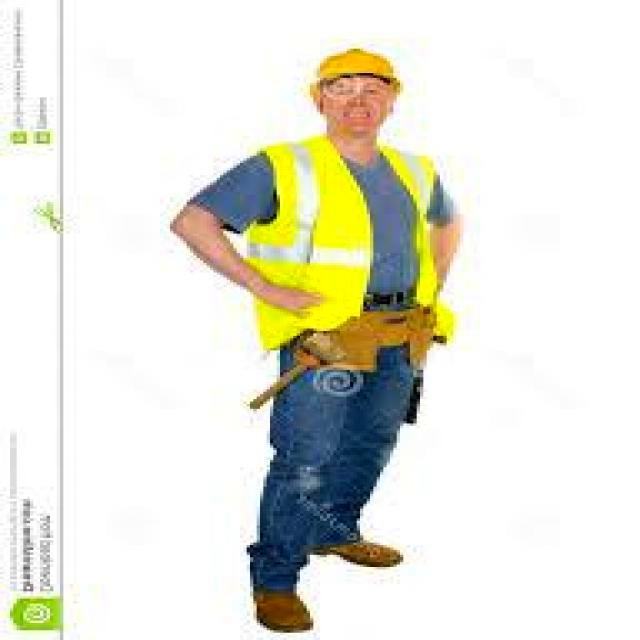10: (168, 46, 468, 638)
11: (245, 138, 455, 352)
2: (304, 46, 410, 138)
7: (253, 279, 330, 324)
helmet_white: (248, 588, 315, 634), (307, 538, 403, 567)
